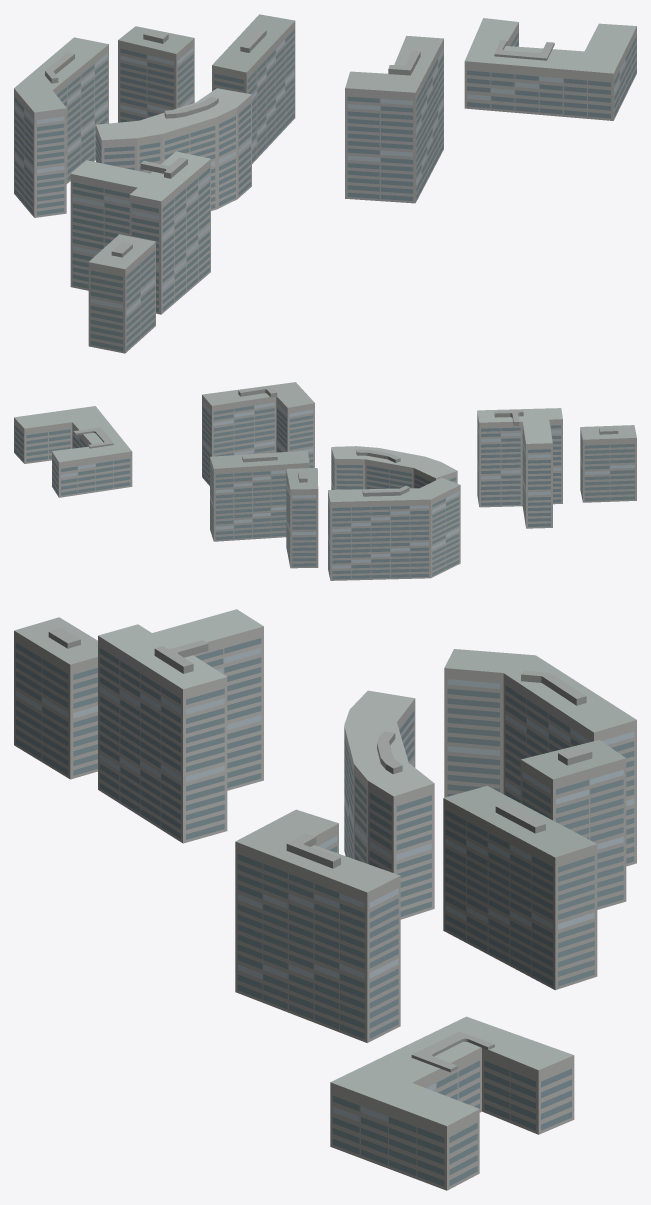
File: apt-a15807702.glb
The picture shows the model from 3 angles, top to bottom: view 1: azimuth 30°, elevation 25°; view 2: azimuth 150°, elevation 25°; view 3: azimuth 270°, elevation 25°; orthographic projection. The views are drawn at different scales.
Parts seen in each view (by area): view 1: apt-a15807702; view 2: apt-a15807702; view 3: apt-a15807702.
Boxes of the visible parts, x1,y1,x2,y2 form: apt-a15807702: [14, 14, 636, 353]; apt-a15807702: [14, 382, 636, 580]; apt-a15807702: [14, 609, 636, 1190].
Bounding box in the file's own units: 262 × 43 × 150.
